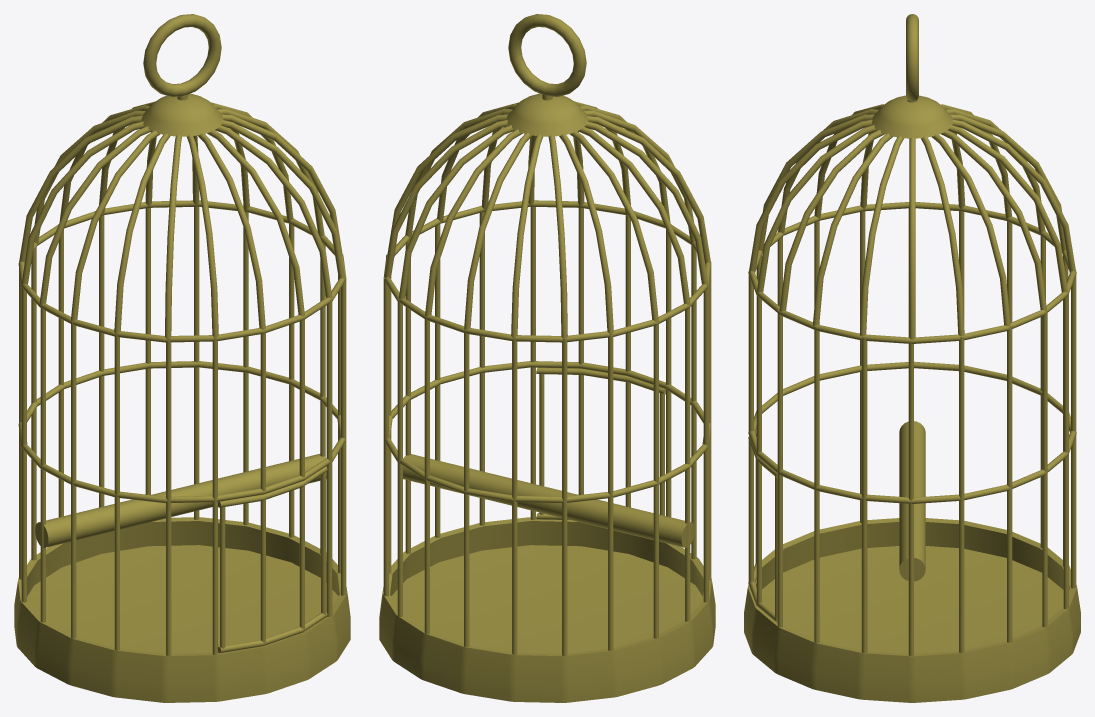
File: JauladeWats.fbx
3 views of the same model, side by side, from view 1: azimuth 30°, elevation 25°; view 2: azimuth 150°, elevation 25°; view 3: azimuth 270°, elevation 25° (orthographic).
Parts seen in each view (by area): view 1: jaula:pTorus19; view 2: jaula:pTorus19; view 3: jaula:pTorus19.
Part boxes in pixels (left/top/right/bottom): jaula:pTorus19: left=14, top=14, right=350, bottom=702; jaula:pTorus19: left=379, top=14, right=715, bottom=702; jaula:pTorus19: left=744, top=14, right=1080, bottom=702.
Size of the model in its own units: 4.69 by 9.44 by 4.69.
